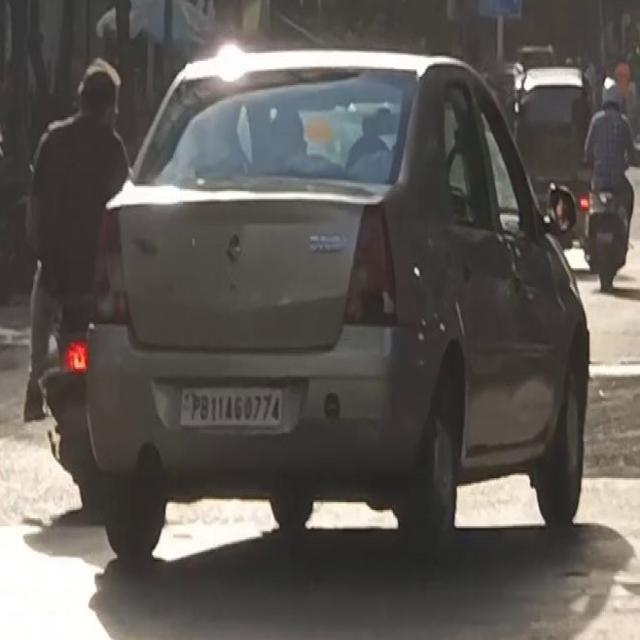Plate: (178, 384, 284, 426)
